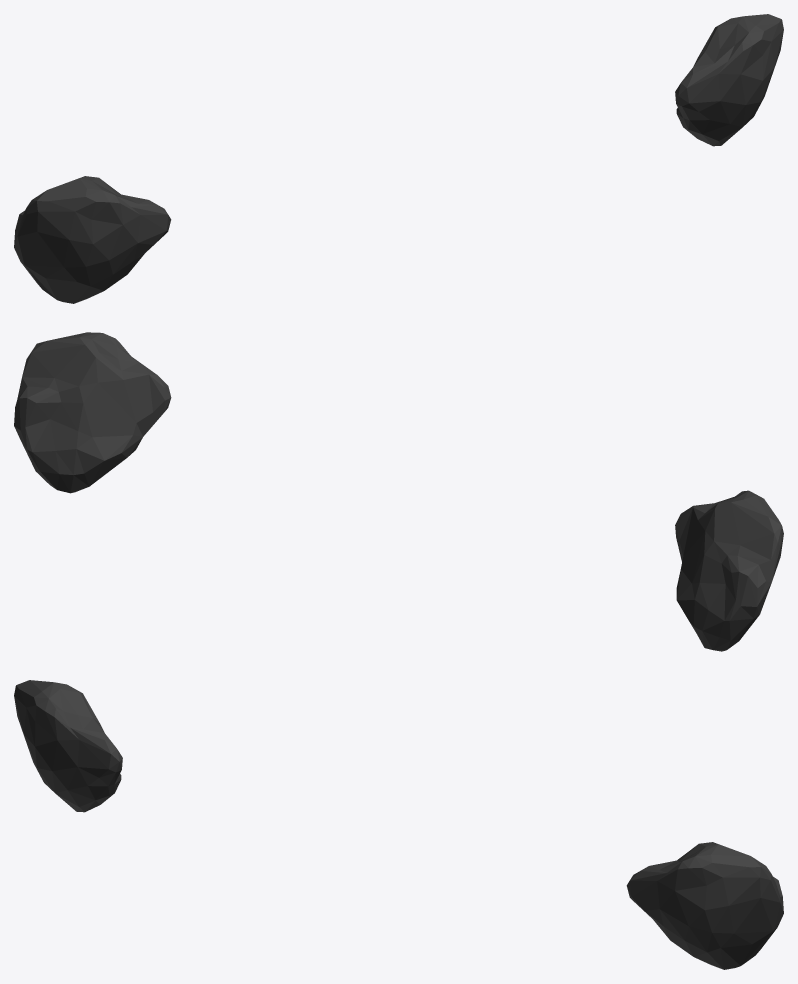
File: skel_patella.glb
The picture shows the model from 3 angles, top to bottom: view 1: azimuth 30°, elevation 25°; view 2: azimuth 150°, elevation 25°; view 3: azimuth 330°, elevation 25°; orthographic projection.
Parts seen in each view (by area): view 1: skel_patella; view 2: skel_patella; view 3: skel_patella.
Boxes of the visible parts, <box> form: skel_patella: <box>14,14,783,303</box>; skel_patella: <box>14,332,783,651</box>; skel_patella: <box>14,680,783,969</box>.
Bounding box in the file's own units: 0.00745 × 0.00131 × 0.000916.
Materials: 1 (1 with a texture image).
